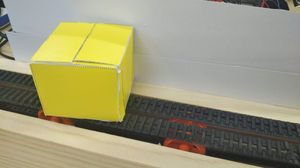box4: (28, 21, 135, 124)
